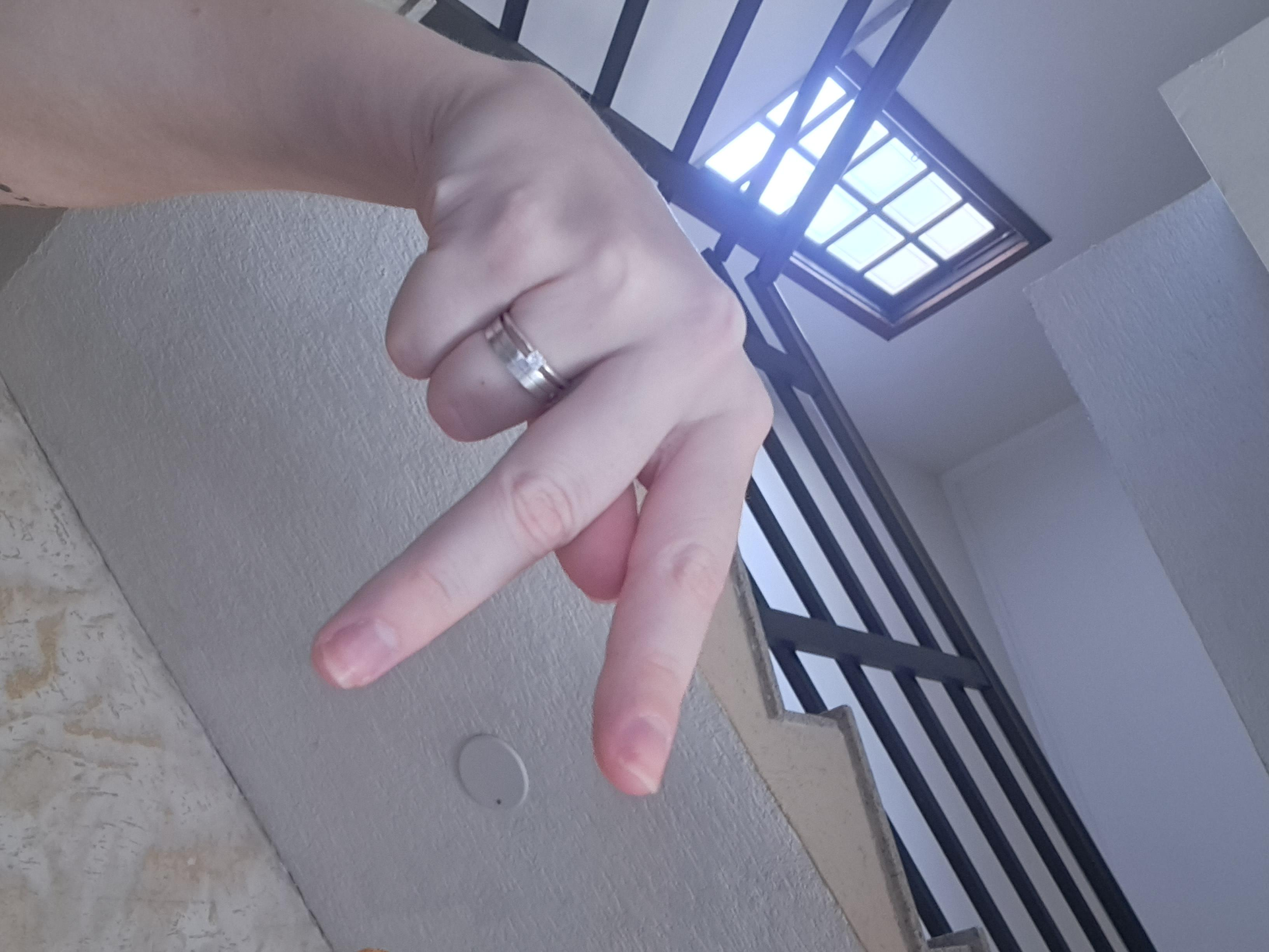P: (104, 365, 1104, 718)
